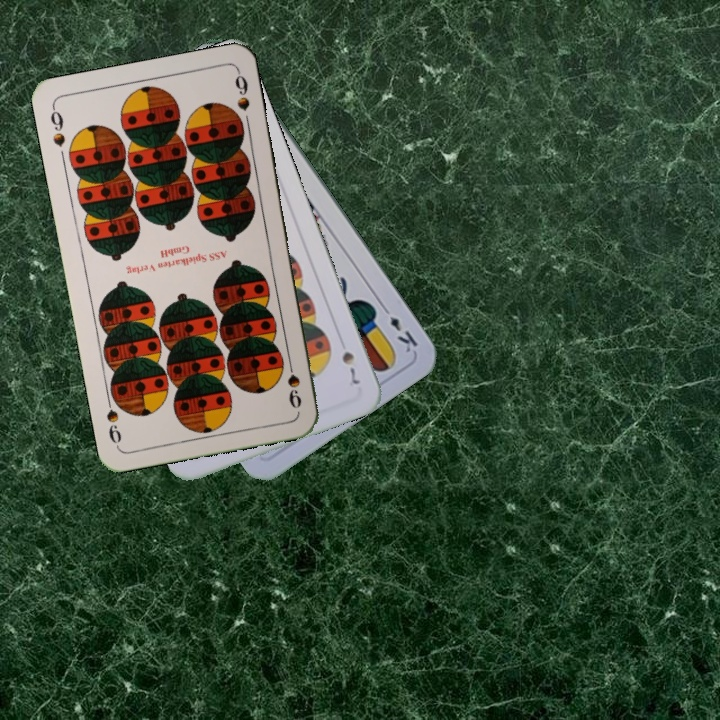EK: (378, 301, 420, 355)
S7: (338, 347, 363, 387)
S9: (283, 353, 304, 411), (46, 102, 68, 150)
